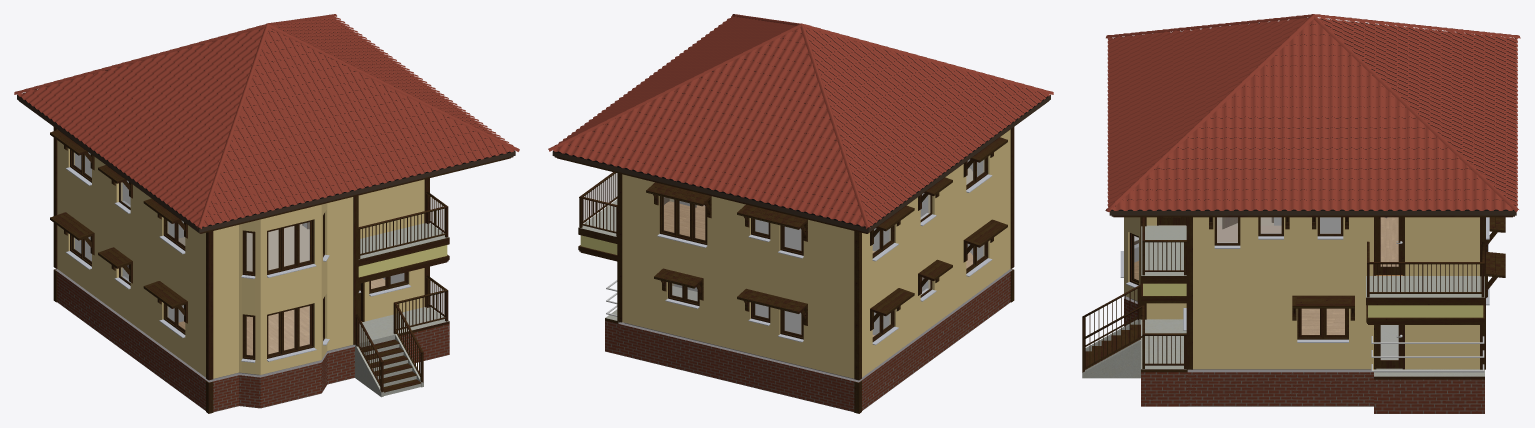
3 renders of one model, left to right at view 1: azimuth 30°, elevation 25°; view 2: azimuth 150°, elevation 25°; view 3: azimuth 270°, elevation 25°, orthographic. The views are drawn at different scales.
Visible parts, largest first — view 1: Plane.019_90, walls.001_95, walls_94, roof_91, walls.003_96, Cube.012_3, Plane.015_86, Window.019_114, Window_97, Cube.021_4, Stairs.003_92, Plane_71 (+10 smaller); view 2: Plane.019_90, walls.001_95, walls_94, roof_91, walls.003_96, Window.013_108, Cube.026_5, Plane.011_82, Plane.018_89, Window.018_113, Window.006_101, Window.008_103 (+5 smaller); view 3: Plane.019_90, walls.001_95, walls_94, roof_91, Plane.016_87, Plane.015_86, Plane.018_89, Cube.012_3, walls.003_96, Cube.026_5, Window.009_104, Door.006_12 (+12 smaller).
Boxes of the visible parts, left/top/right/bottom form: Plane.019_90: left=14, top=14, right=519, bottom=228; walls.001_95: left=55, top=185, right=424, bottom=412; walls_94: left=53, top=127, right=449, bottom=413; roof_91: left=17, top=19, right=515, bottom=233; walls.003_96: left=50, top=130, right=187, bottom=323; Cube.012_3: left=355, top=275, right=448, bottom=392; Plane.015_86: left=359, top=307, right=449, bottom=362; Window.019_114: left=267, top=219, right=316, bottom=277; Window_97: left=267, top=303, right=316, bottom=361; Cube.021_4: left=358, top=192, right=448, bottom=258; Stairs.003_92: left=361, top=339, right=421, bottom=395; Plane_71: left=178, top=278, right=385, bottom=355; Plane.019_90: left=548, top=14, right=1053, bottom=228; walls.001_95: left=618, top=185, right=1012, bottom=411; walls_94: left=578, top=127, right=1014, bottom=413; roof_91: left=552, top=30, right=1050, bottom=233; walls.003_96: left=646, top=137, right=1007, bottom=330; Window.013_108: left=657, top=196, right=707, bottom=247; Cube.026_5: left=579, top=172, right=617, bottom=236; Plane.011_82: left=664, top=201, right=705, bottom=239; Plane.018_89: left=578, top=235, right=617, bottom=261; Window.018_113: left=778, top=225, right=803, bottom=258; Window.006_101: left=778, top=309, right=803, bottom=342; Window.008_103: left=665, top=282, right=699, bottom=308; Plane.019_90: left=1105, top=14, right=1520, bottom=212; walls.001_95: left=1124, top=217, right=1479, bottom=406; walls_94: left=1140, top=217, right=1485, bottom=369; roof_91: left=1109, top=19, right=1516, bottom=217; Plane.016_87: left=1374, top=369, right=1484, bottom=413; Plane.015_86: left=1141, top=319, right=1187, bottom=406; Plane.018_89: left=1141, top=283, right=1484, bottom=324; Cube.012_3: left=1082, top=285, right=1186, bottom=372; walls.003_96: left=1209, top=217, right=1505, bottom=320; Cube.026_5: left=1367, top=241, right=1484, bottom=297; Window.009_104: left=1297, top=308, right=1348, bottom=342; Door.006_12: left=1376, top=217, right=1402, bottom=274.
Bounding box in the file's own units: 8.27 × 7.34 × 8.71.
Materials: 17 (5 with a texture image).
